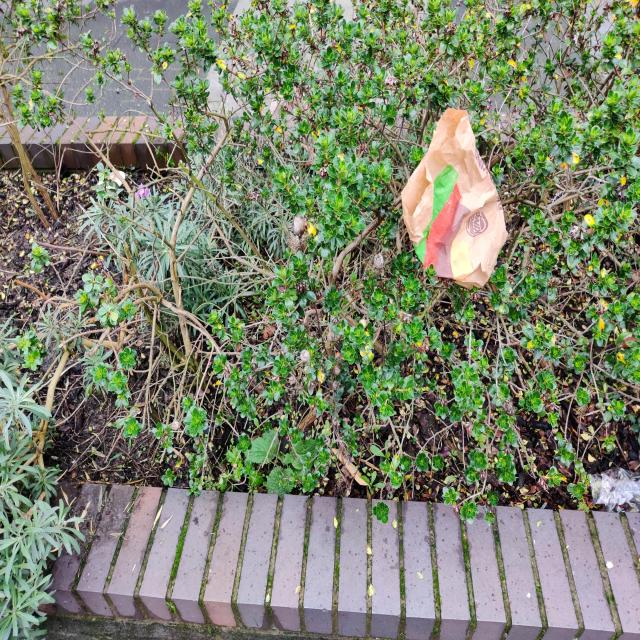litter: (401, 103, 505, 284)
